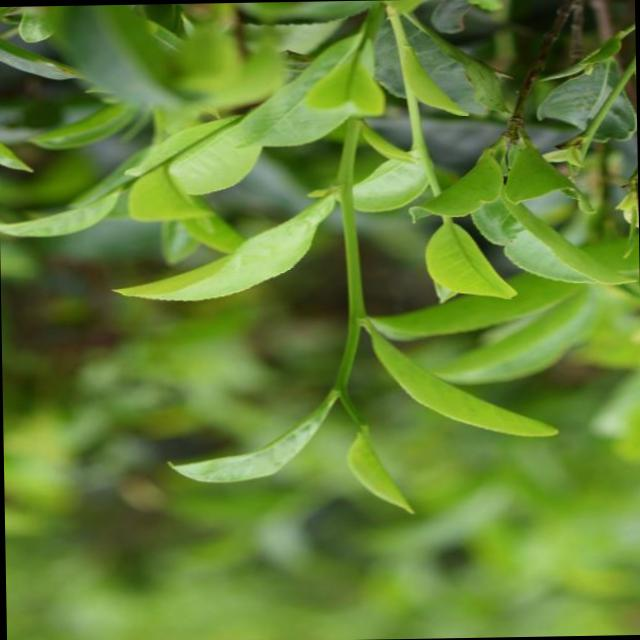Stem: (331, 381, 345, 393), (169, 151, 179, 160)
